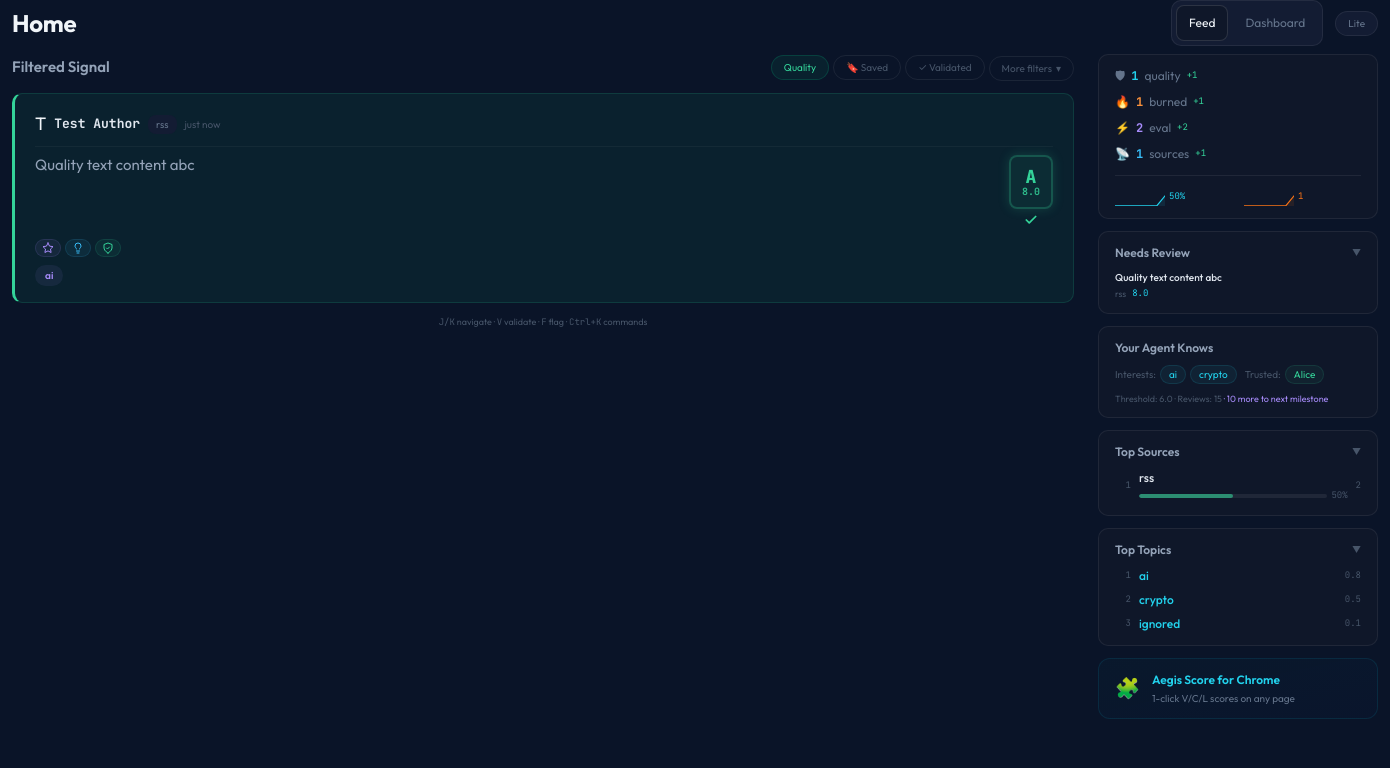
Test: More Filters dropdown › clicking Slop filter shows only slop items
Click the button with test id "aegis-filter-more": (1031, 68) [989,56,1074,81]
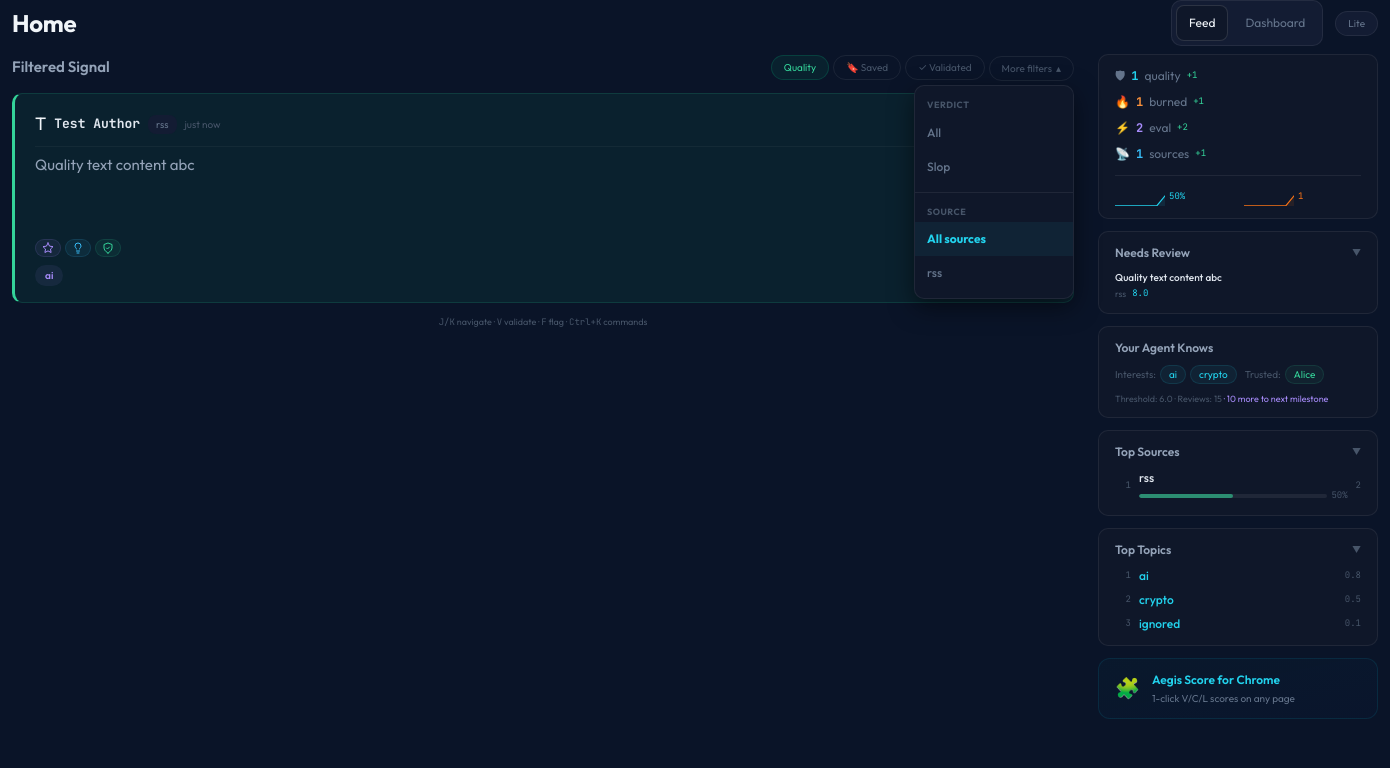
Click the menu item with test id "aegis-filter-slop": (994, 166) [915,150,1073,184]
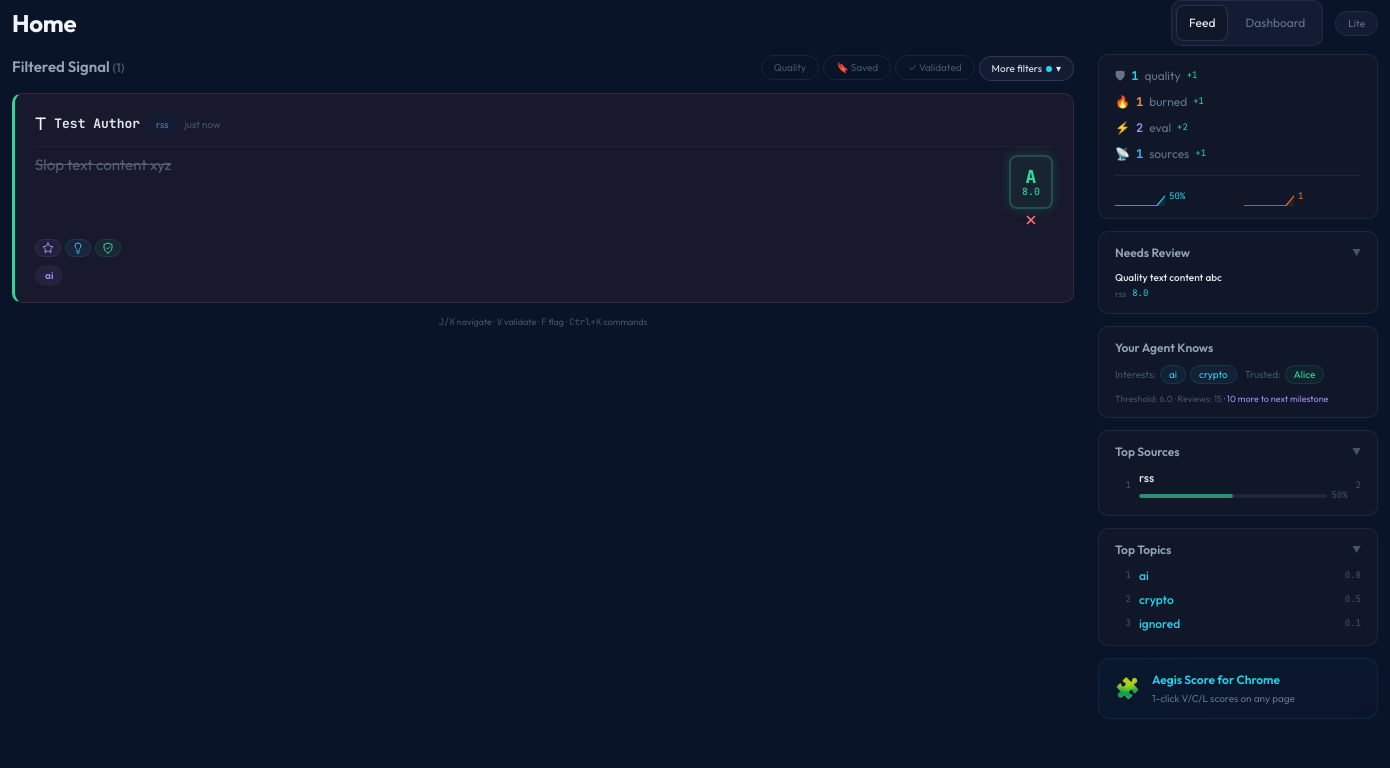
Now the text with test id "aegis-filter-count" shows "1", box [116,60,121,75]
